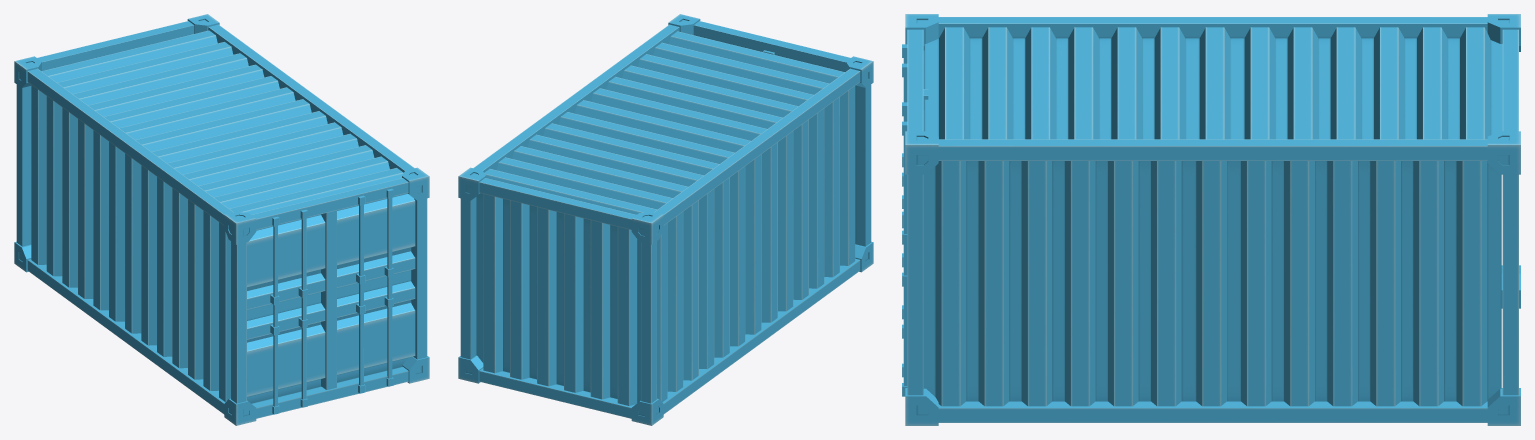
Rendered from shipping-container-blue.glb.
The picture shows the model from 3 angles, left to right: view 1: azimuth 30°, elevation 25°; view 2: azimuth 150°, elevation 25°; view 3: azimuth 270°, elevation 25°; orthographic projection. The views are drawn at different scales.
Visible parts, largest first — view 1: container.001; view 2: container.001; view 3: container.001.
Part boxes in pixels (x1,y1,x2,y2): container.001: (14, 14, 429, 425); container.001: (458, 14, 873, 425); container.001: (902, 14, 1520, 425).
Bounding box in the file's own units: 3.05 × 3.06 × 6.1.
1 material, 1 textured.
